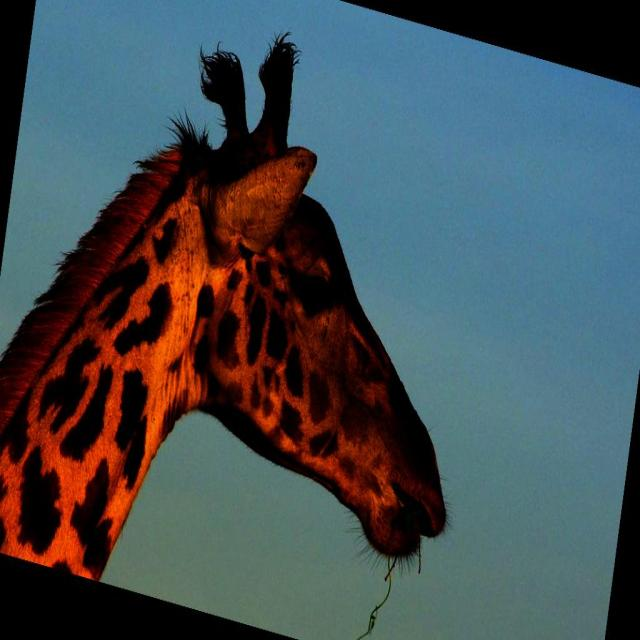Giraffe: (0, 26, 462, 606)
